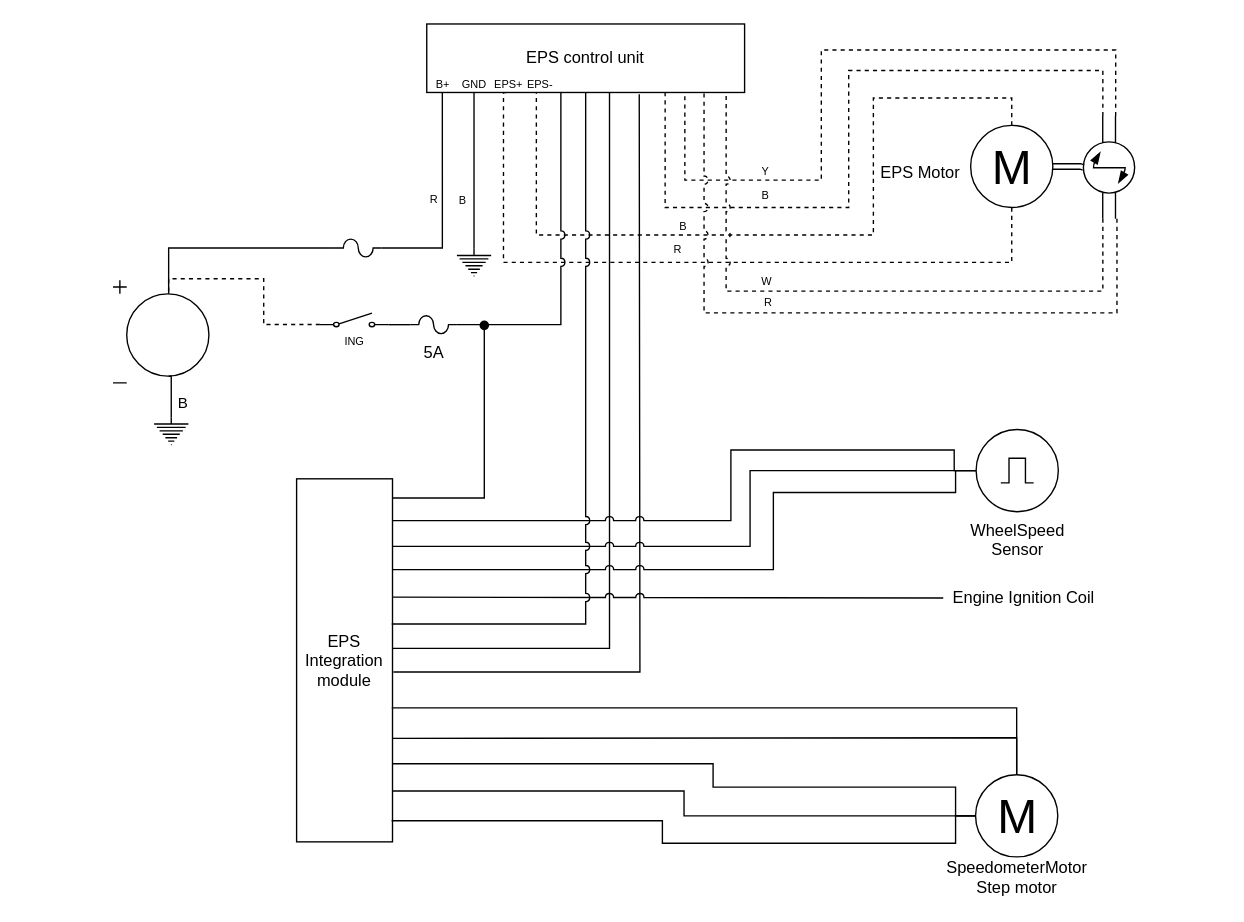
Some shapes in this 1244 by 922 pixel diagram are drawn without their labels. The centre of each missing label's shape, as x and y in pixels:
"12V Battery" belongs at (160,331).
"50A" belongs at (358,247).
"EPS torque sensor" belongs at (1108,167).
